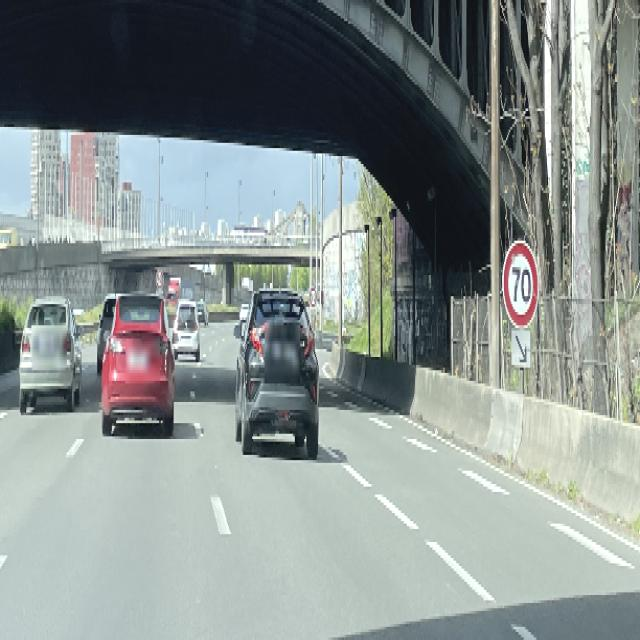speed_70: (501, 239, 542, 329)
